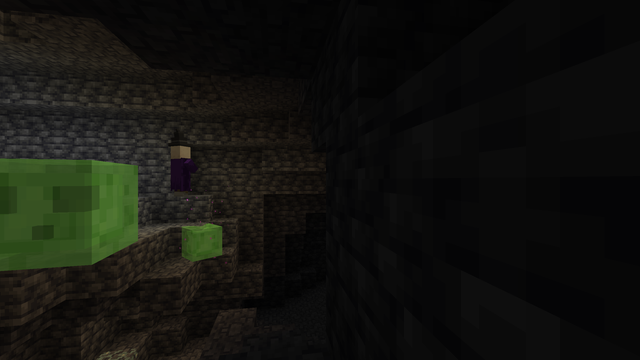slimes: (8, 154, 141, 270), (179, 222, 219, 260)
sorcieres: (168, 143, 190, 196)
